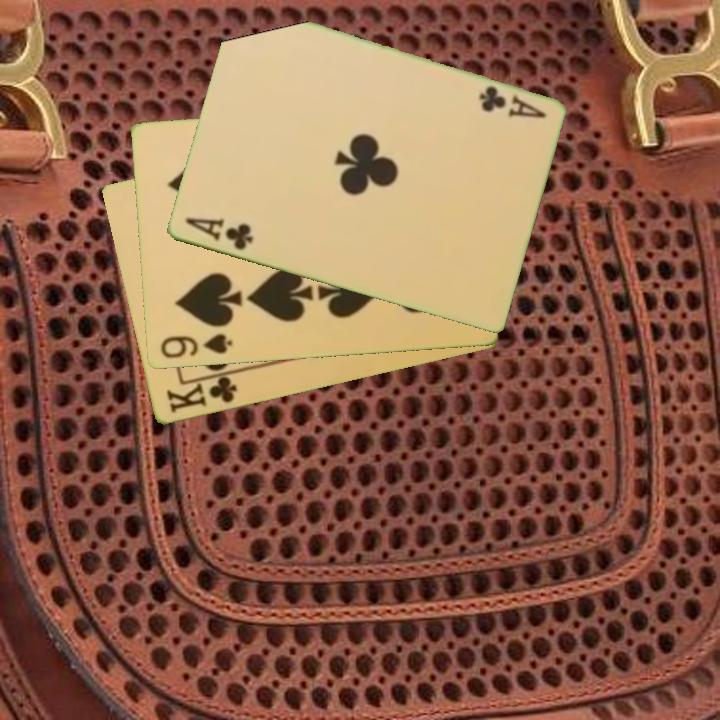9s: (156, 330, 235, 362)
Ac: (181, 214, 255, 253), (475, 83, 549, 122)
Kc: (163, 369, 240, 417)
